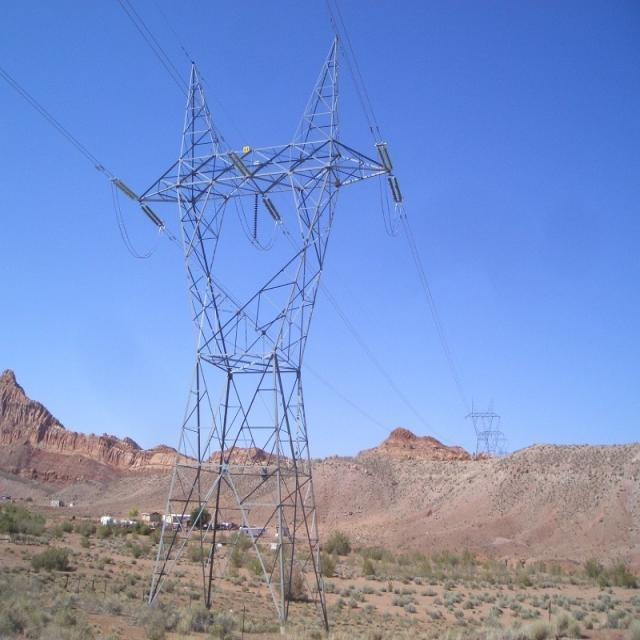non-critical vegetation: (113, 45, 396, 624), (457, 390, 509, 452)
